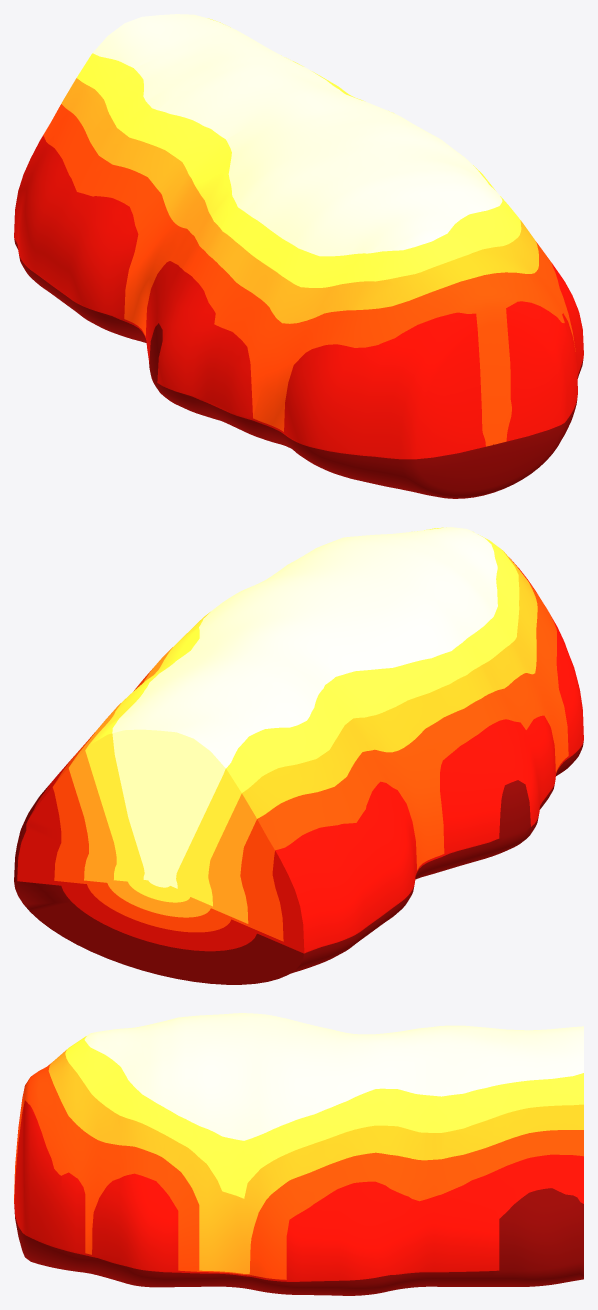
The model's file is comet_head.glb.
3 renders of one model, top to bottom at view 1: azimuth 30°, elevation 25°; view 2: azimuth 150°, elevation 25°; view 3: azimuth 270°, elevation 25°, orthographic. The views are drawn at different scales.
Parts seen in each view (by area): view 1: head; view 2: head; view 3: head.
Boxes of the visible parts, x1,y1,x2,y2 form: head: [14, 14, 583, 498]; head: [14, 527, 583, 984]; head: [14, 1013, 583, 1295].
Size of the model in its own units: 17.02 by 11.02 by 26.
